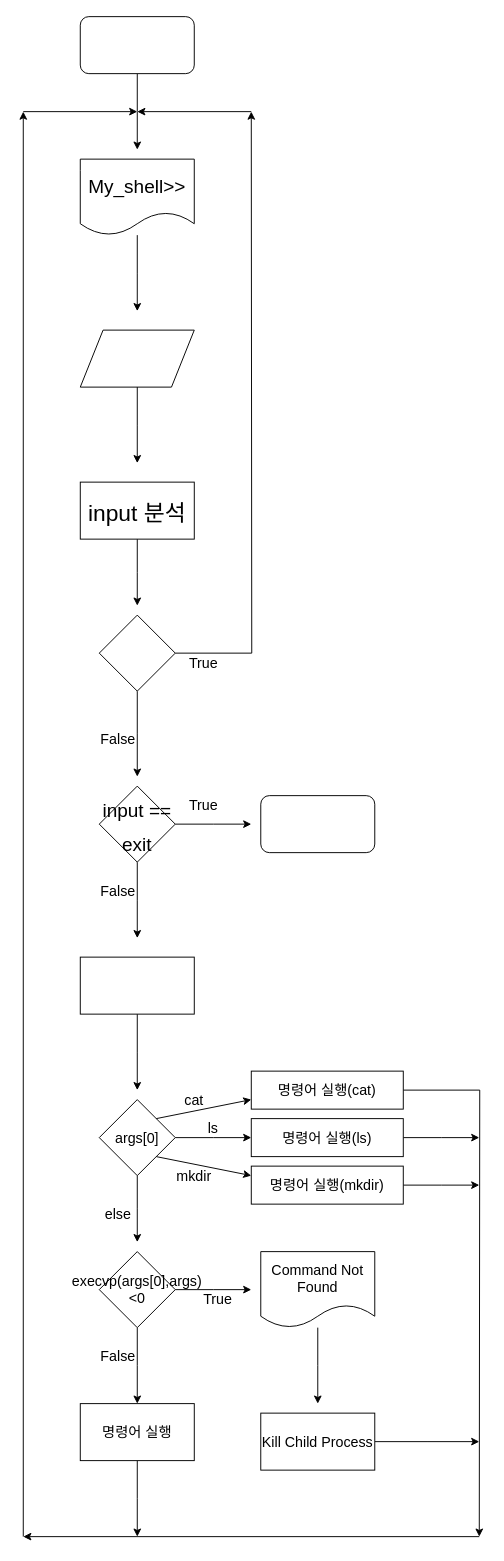
Image size: 504x1561. Some labels were removed from this diagram. The box of each missing label's shape, as (x1, y1, x2, y2) in pixels:
END: (260, 795, 375, 853)
input == NULL: (98, 614, 175, 691)
Input input: (79, 329, 194, 387)
Start: (79, 16, 194, 74)
자식 프로세스 생성: (79, 956, 194, 1014)
